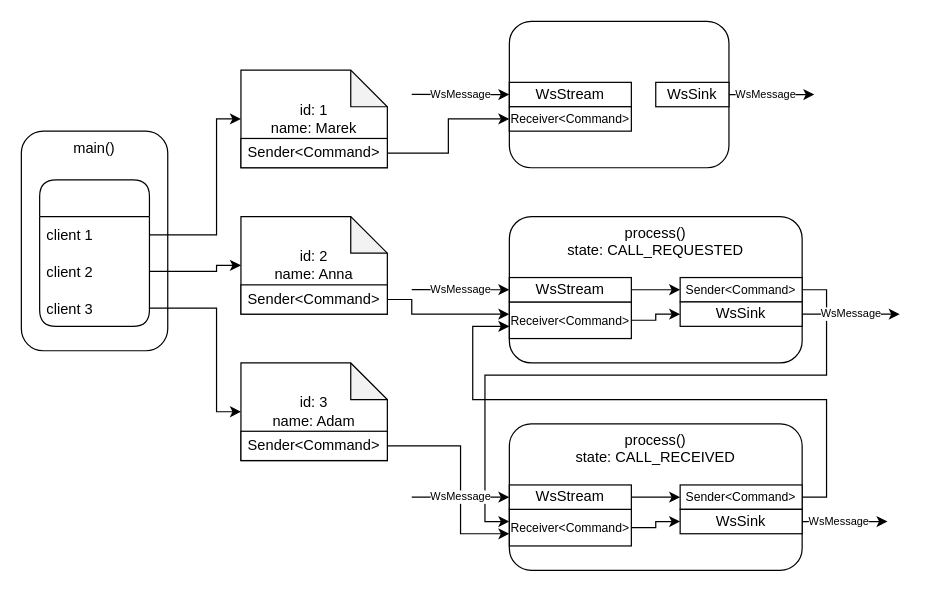
Some shapes in this 931 by 592 pixel diagram are drawn without their labels. The box of each missing label's shape, as (x1, y1, x2, y2) in pixels:
process() state: CONNECTED: (508, 20, 729, 168)
State: (38, 179, 149, 326)
